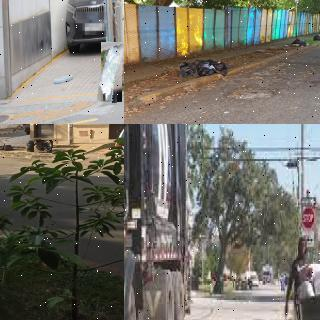Garbage: (98, 41, 124, 102), (307, 259, 320, 292), (296, 277, 312, 296), (34, 139, 53, 153), (180, 63, 197, 78), (25, 139, 39, 152), (201, 65, 215, 76), (292, 38, 309, 47), (213, 61, 224, 73), (3, 144, 13, 151), (312, 33, 320, 40), (0, 143, 6, 150)
